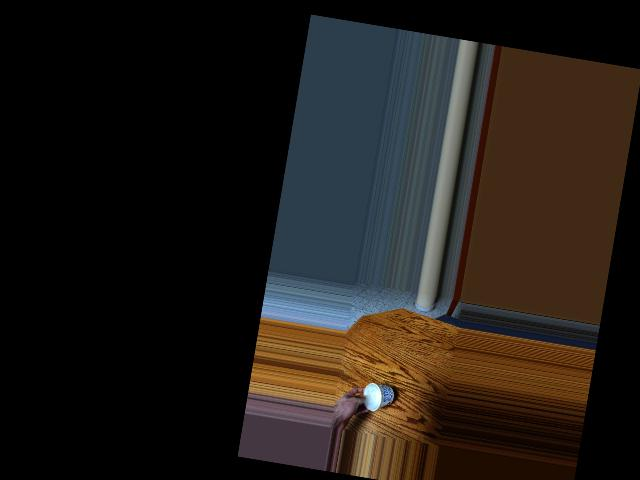cotage: (361, 381, 398, 409)
